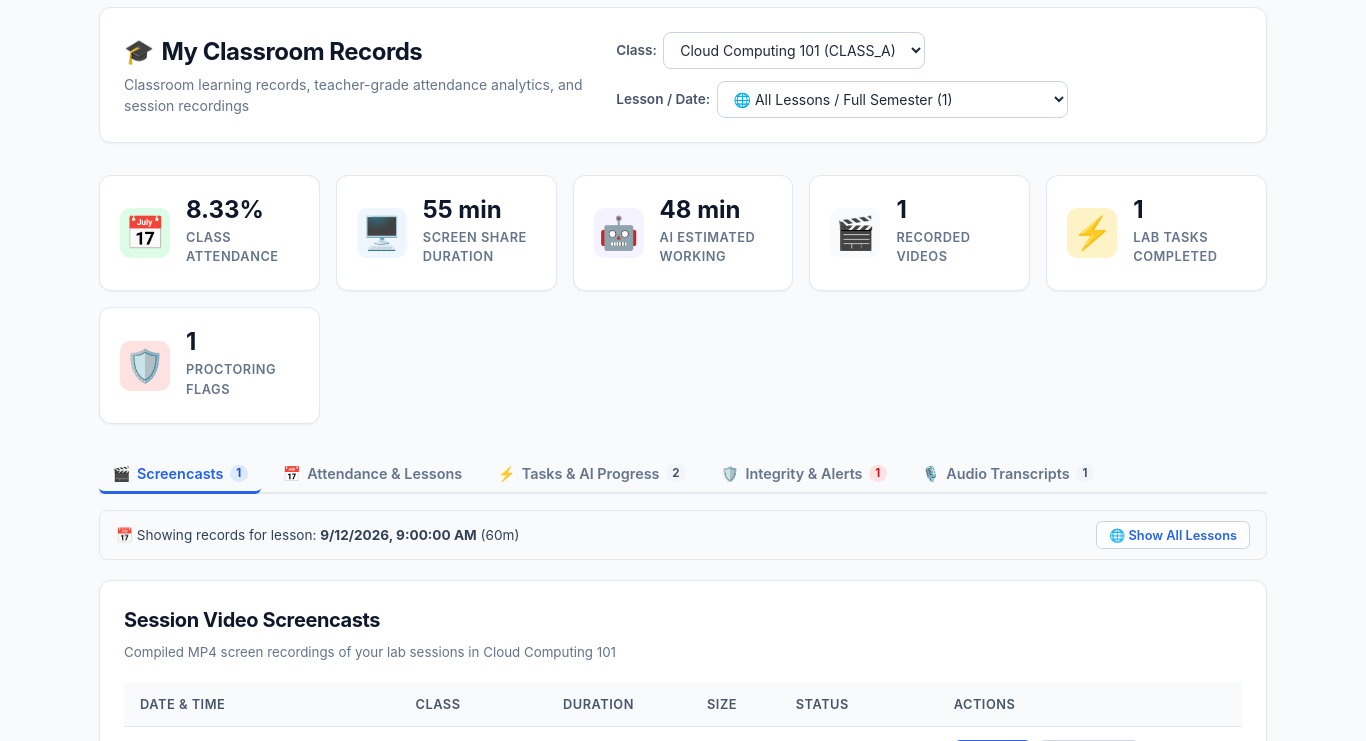
it: StudentRecordsView Component › switches to Audio Transcripts tab and displays speech transcripts
The image size is (1366, 741).
Click the tab "🎙️ Audio Transcripts 1".
click(1008, 475)  # box x1=908 y1=456 x2=1107 y2=494
(page scrolled)
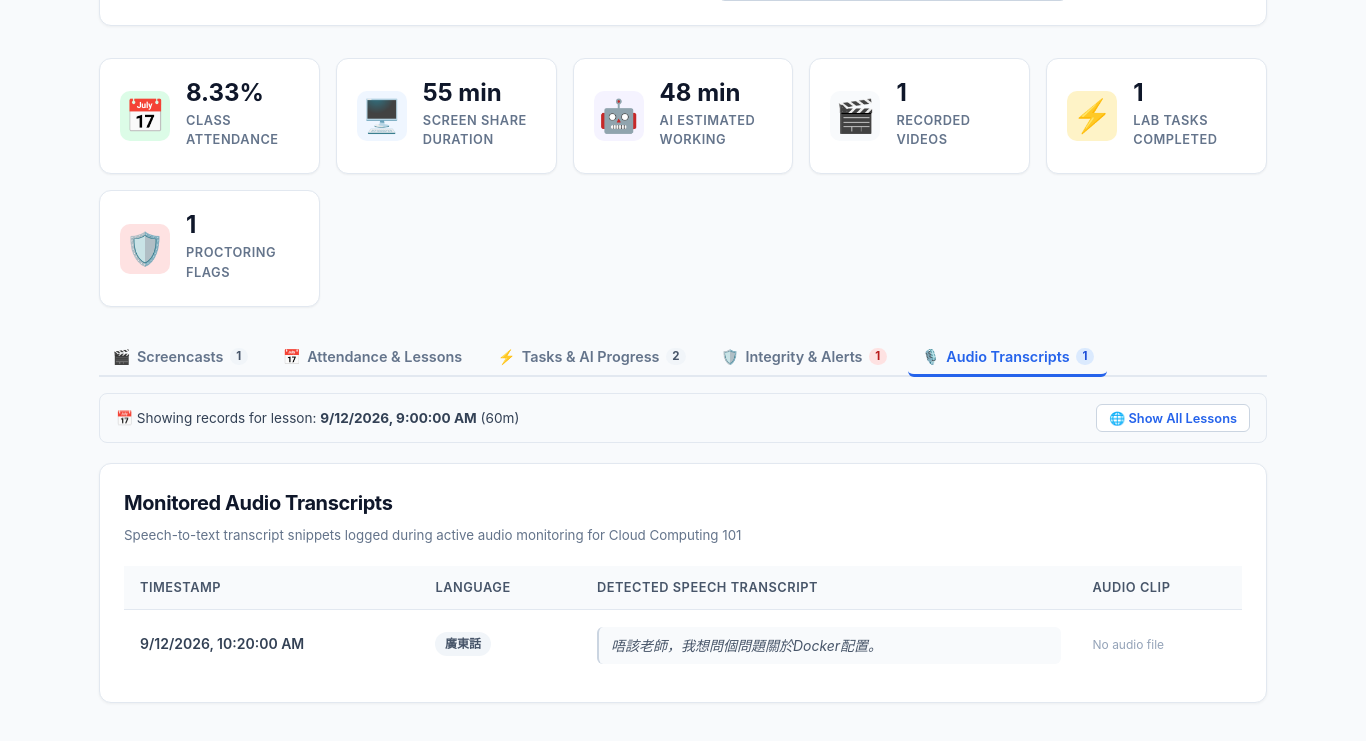
Expected: the heading "Monitored Audio Transcripts" is shown, x1=124 y1=491 x2=392 y2=515
Expected: the text "唔該老師，我想問個問題關於Docker配置。" is shown, x1=597 y1=628 x2=1060 y2=664
Expected: the text "廣東話" is shown, x1=435 y1=632 x2=491 y2=656
